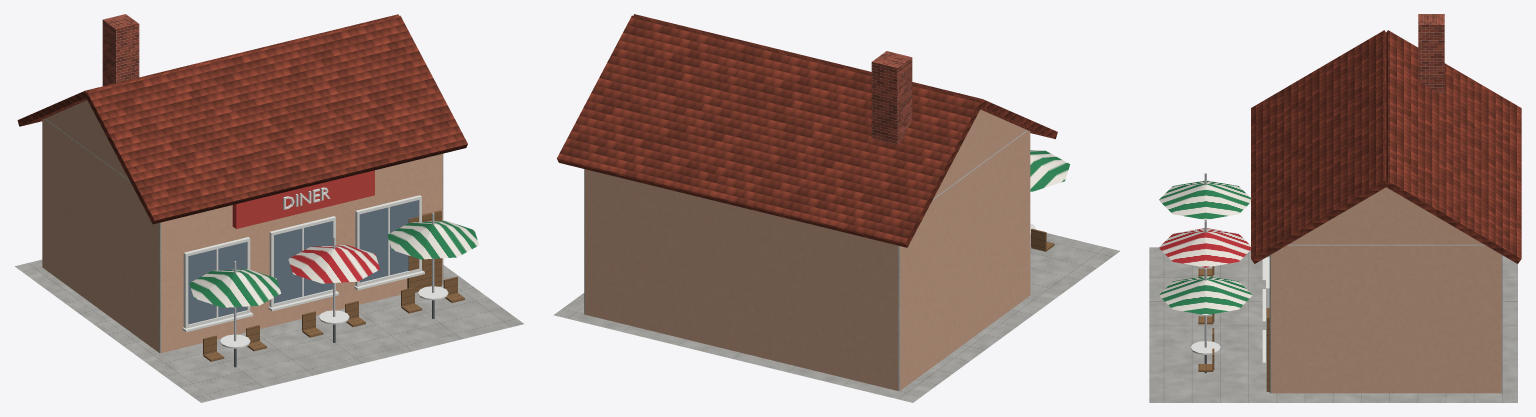
Rendered from restaurant_2.gltf.
3 renders of one model, left to right at view 1: azimuth 30°, elevation 25°; view 2: azimuth 150°, elevation 25°; view 3: azimuth 270°, elevation 25°, orthographic. The views are drawn at different scales.
Parts seen in each view (by area): view 1: restaurant_2; view 2: restaurant_2; view 3: restaurant_2.
Boxes of the visible parts, left/top/right/bottom form: restaurant_2: left=15, top=14, right=523, bottom=402; restaurant_2: left=553, top=14, right=1119, bottom=402; restaurant_2: left=1149, top=14, right=1521, bottom=402.
Bounding box in the file's own units: 1.96 × 1.52 × 1.98.
13 materials, 7 textured.
